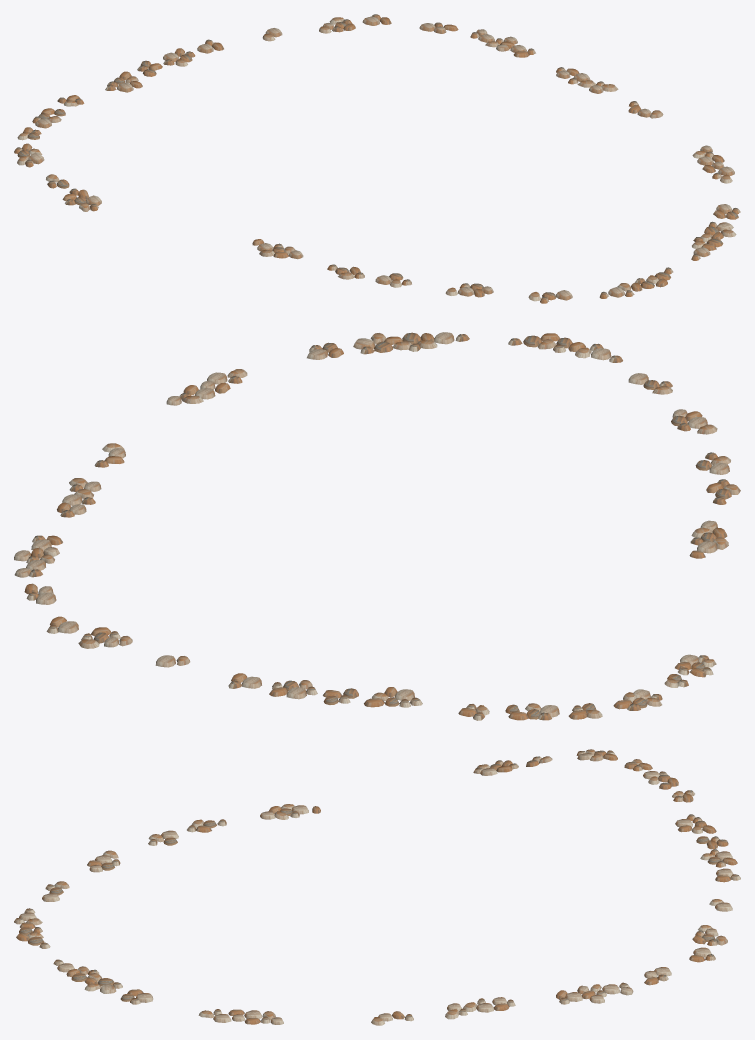
Rendered from objects_un_t01cobblestone01.gltf.
The picture shows the model from 3 angles, top to bottom: view 1: azimuth 30°, elevation 25°; view 2: azimuth 150°, elevation 25°; view 3: azimuth 270°, elevation 25°; orthographic projection. The views are drawn at different scales.
Visible parts, largest first — view 1: objects_un_t01cobblestone01_mesh_lod0_shape:objects_un_t01co; view 2: objects_un_t01cobblestone01_mesh_lod0_shape:objects_un_t01co; view 3: objects_un_t01cobblestone01_mesh_lod0_shape:objects_un_t01co.
Boxes of the visible parts, box(x1,y1,x2,y2) form: objects_un_t01cobblestone01_mesh_lod0_shape:objects_un_t01co: box(14, 14, 740, 303); objects_un_t01cobblestone01_mesh_lod0_shape:objects_un_t01co: box(14, 332, 740, 720); objects_un_t01cobblestone01_mesh_lod0_shape:objects_un_t01co: box(14, 749, 740, 1025).
Size of what is drawn, in the model's own units: 37.03 by 1.12 by 42.37.
1 material, 1 textured.
